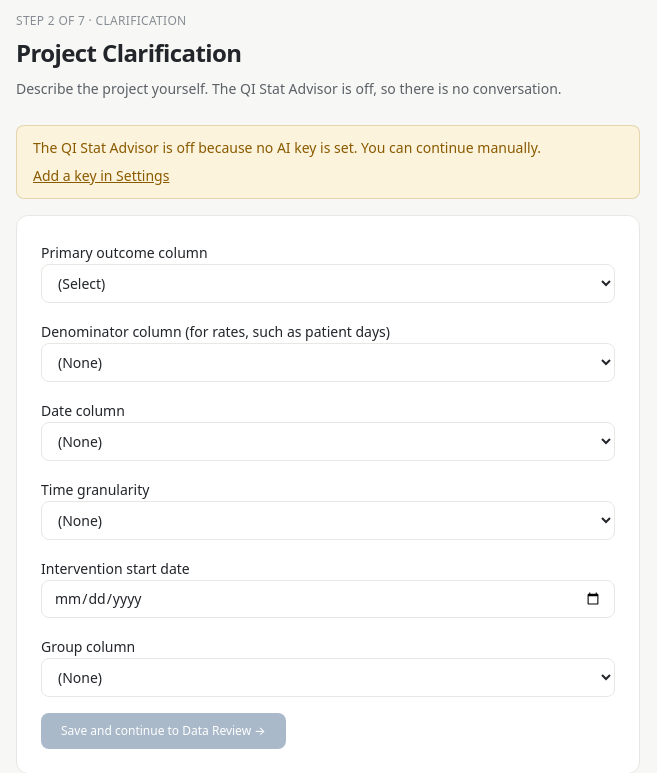
Test case: ClarificationStage with the advisor off › shows the backend column error and does not advance
Step 1. Select "falls" in the dropdown labelled "Primary outcome column" → (328, 284), box [41,264,615,303]
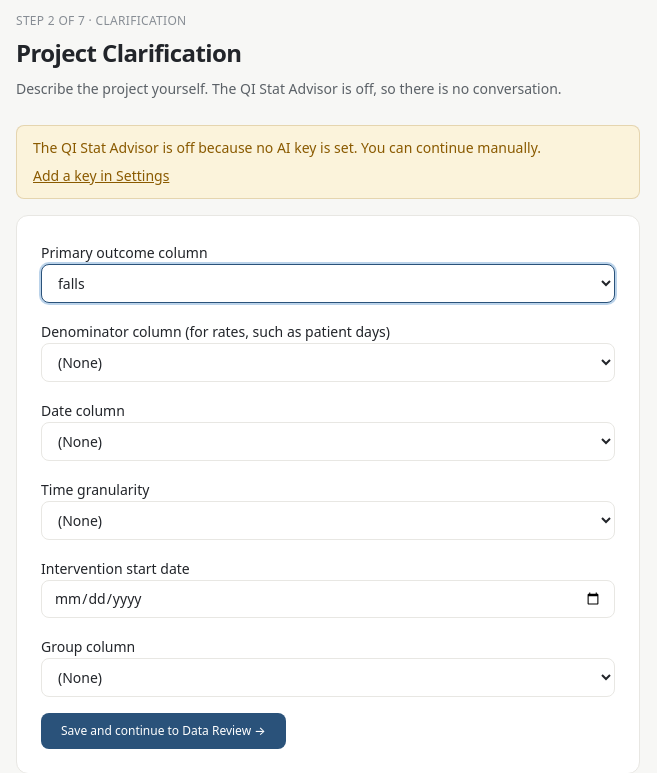
Step 2. Click the button "Save and continue to Data Review →" → (163, 731), box [41,713,286,749]
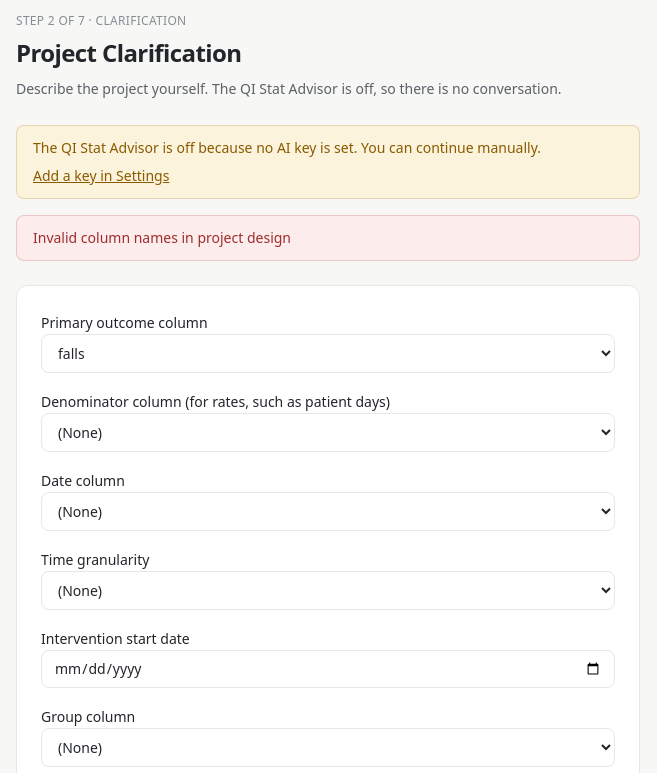
Check: the message "Invalid column names in project design" is shown, box [16,215,640,261]
